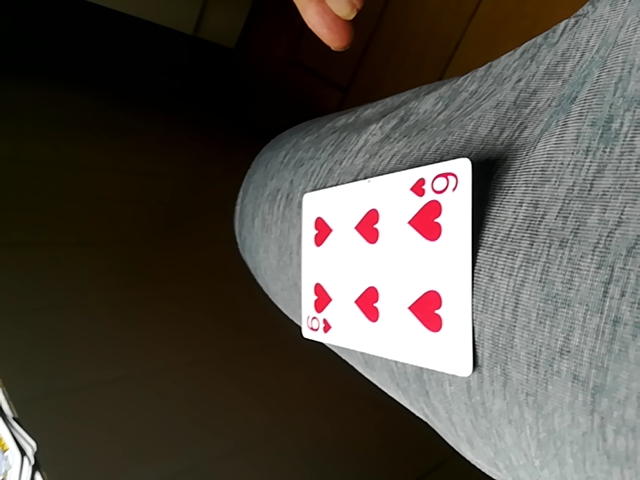hx 6: (295, 159, 475, 374)
